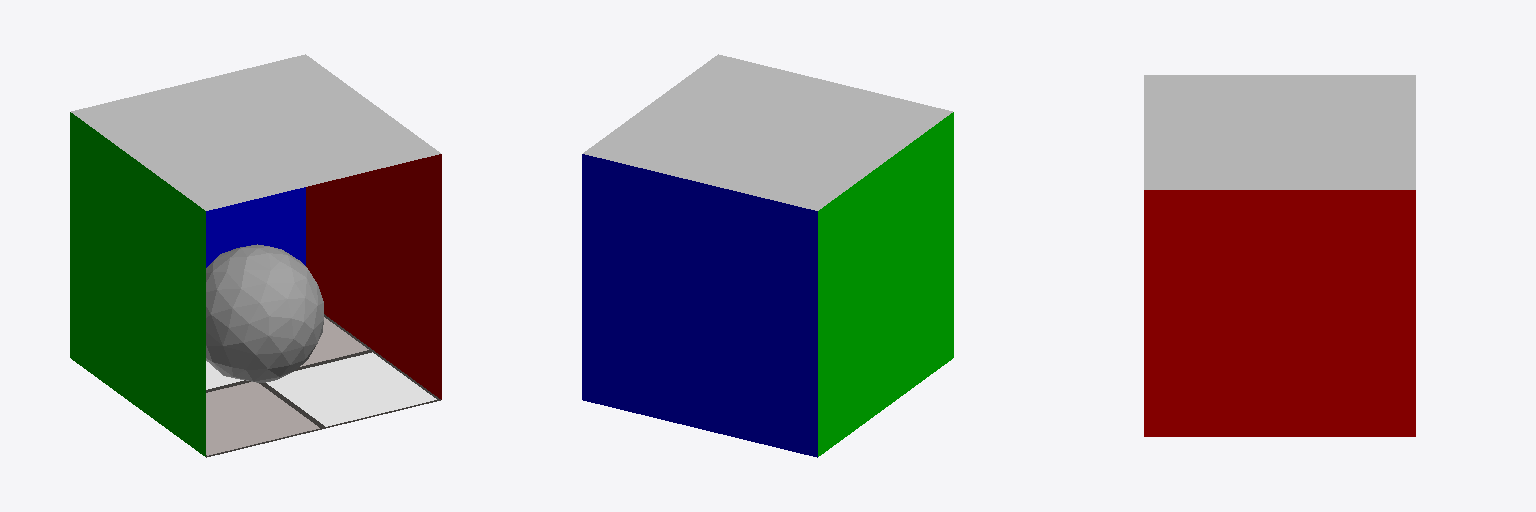
3 renders of one model, left to right at view 1: azimuth 30°, elevation 25°; view 2: azimuth 150°, elevation 25°; view 3: azimuth 270°, elevation 25°, orthographic.
Parts seen in each view (by area): view 1: Cube_Cube.003, Sphere; view 2: Cube_Cube.003; view 3: Cube_Cube.003.
Part boxes in pixels (left/top/right/bottom): Cube_Cube.003: left=70, top=54, right=441, bottom=457; Sphere: left=206, top=244, right=323, bottom=382; Cube_Cube.003: left=582, top=54, right=953, bottom=457; Cube_Cube.003: left=1144, top=75, right=1415, bottom=436.
Size of the model in its own units: 1.12 by 1.12 by 1.12.
Materials: 6 (1 with a texture image).